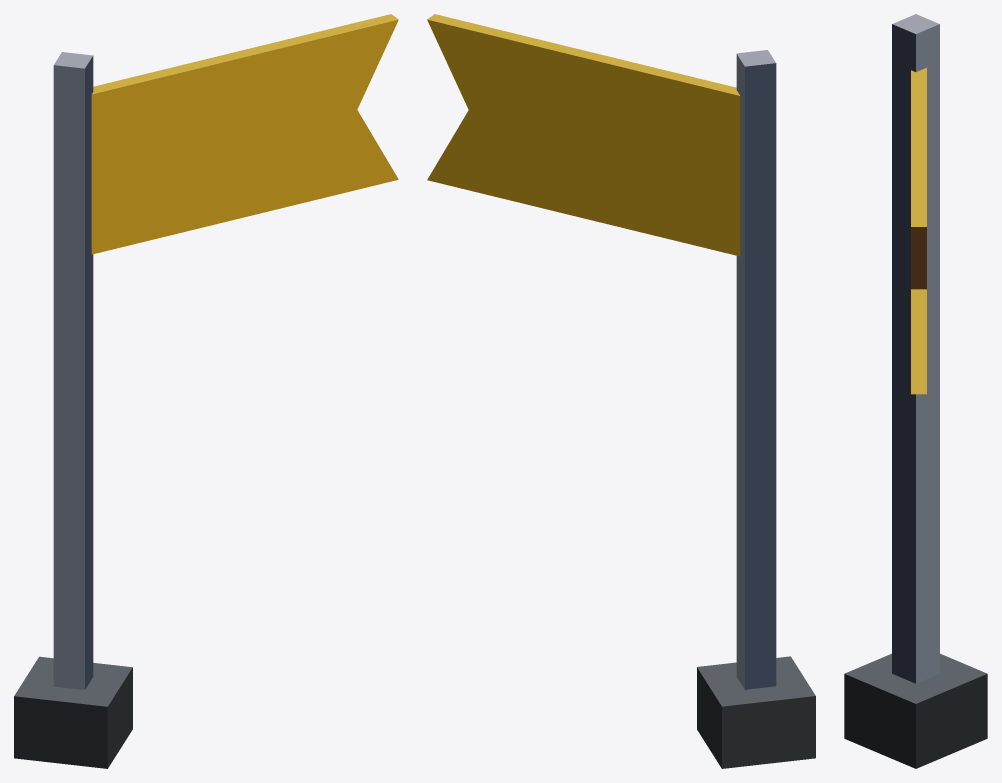
The model's file is TB_CITY_Prop_Frag_E.FBX.
The picture shows the model from 3 angles, left to right: view 1: azimuth 30°, elevation 25°; view 2: azimuth 150°, elevation 25°; view 3: azimuth 270°, elevation 25°; orthographic projection. The views are drawn at different scales.
Parts seen in each view (by area): view 1: TB_CITY_Prop_Frag_E; view 2: TB_CITY_Prop_Frag_E; view 3: TB_CITY_Prop_Frag_E.
Boxes of the visible parts, left/top/right/bottom form: TB_CITY_Prop_Frag_E: left=14, top=14, right=398, bottom=768; TB_CITY_Prop_Frag_E: left=427, top=14, right=815, bottom=768; TB_CITY_Prop_Frag_E: left=844, top=14, right=987, bottom=768.
Size of the model in its own units: 2.33 by 3.98 by 0.7238.
